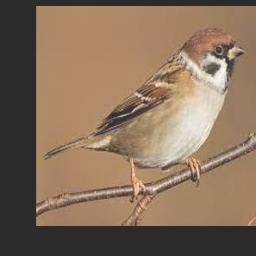Sparrow: (43, 27, 246, 202)
